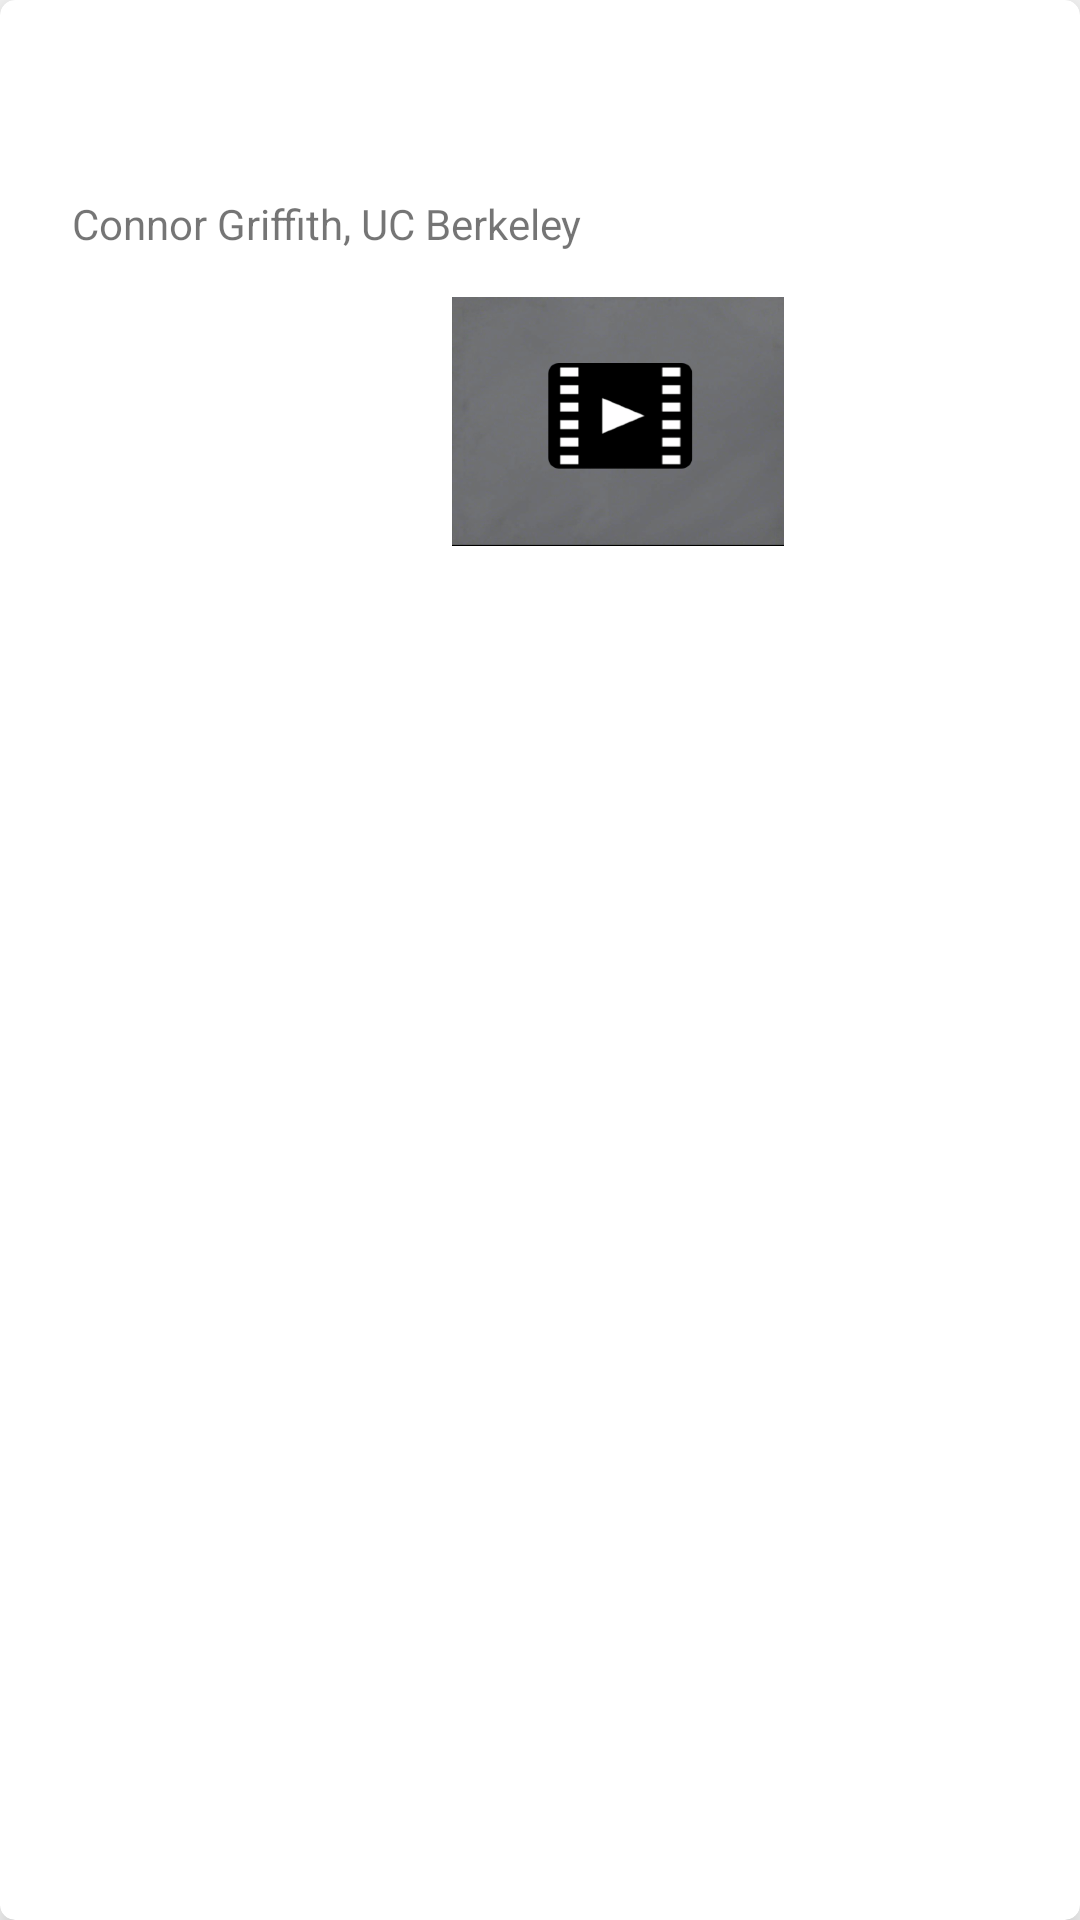

Icons on this 1080×1920 Android screen, each with the point to tap as [x,y]:
movie: [618,421]
